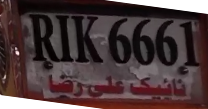1: (178, 19, 202, 67)
6: (106, 16, 132, 64), (155, 17, 180, 66), (131, 16, 155, 65)
I: (55, 14, 73, 63)
K: (72, 15, 104, 63)
R: (25, 11, 57, 63)
